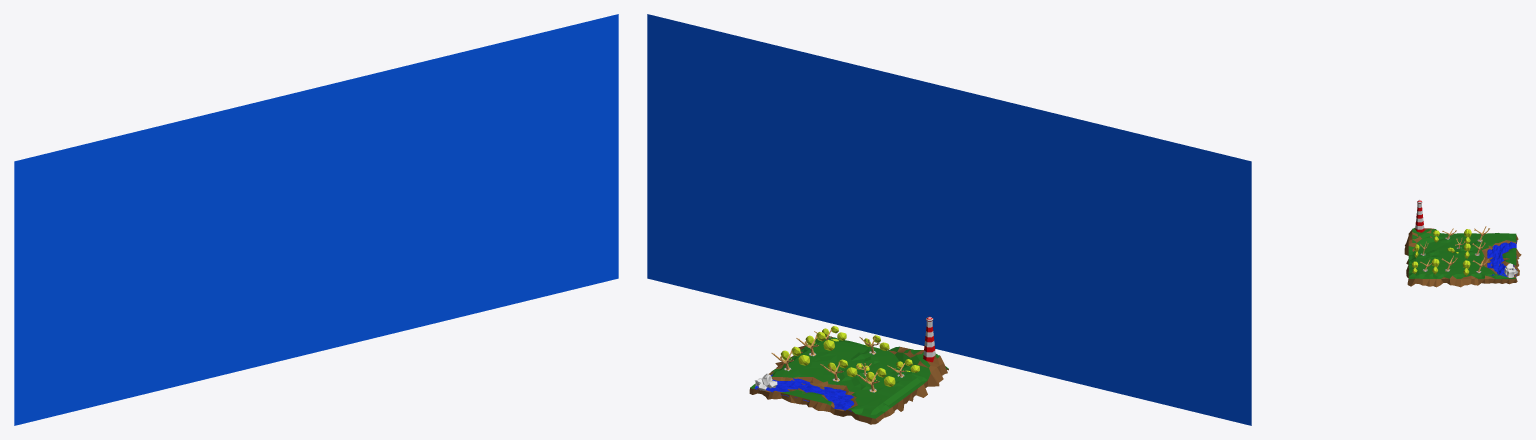
File: escenario.fbx
The picture shows the model from 3 angles, left to right: view 1: azimuth 30°, elevation 25°; view 2: azimuth 150°, elevation 25°; view 3: azimuth 270°, elevation 25°; orthographic projection. The views are drawn at different scales.
Visible parts, largest first — view 1: Plane.001; view 2: Plane.001, Plane, Plane.002; view 3: Plane, Plane.002.
Boxes of the visible parts, x1,y1,x2,y2 form: Plane.001: (14,14,618,425); Plane.001: (647,14,1251,425); Plane: (749,336,948,424); Plane.002: (754,374,854,411); Plane: (1404,228,1521,287); Plane.002: (1487,241,1516,276).
Size of the model in its own units: 14338 by 6000 by 6731.
